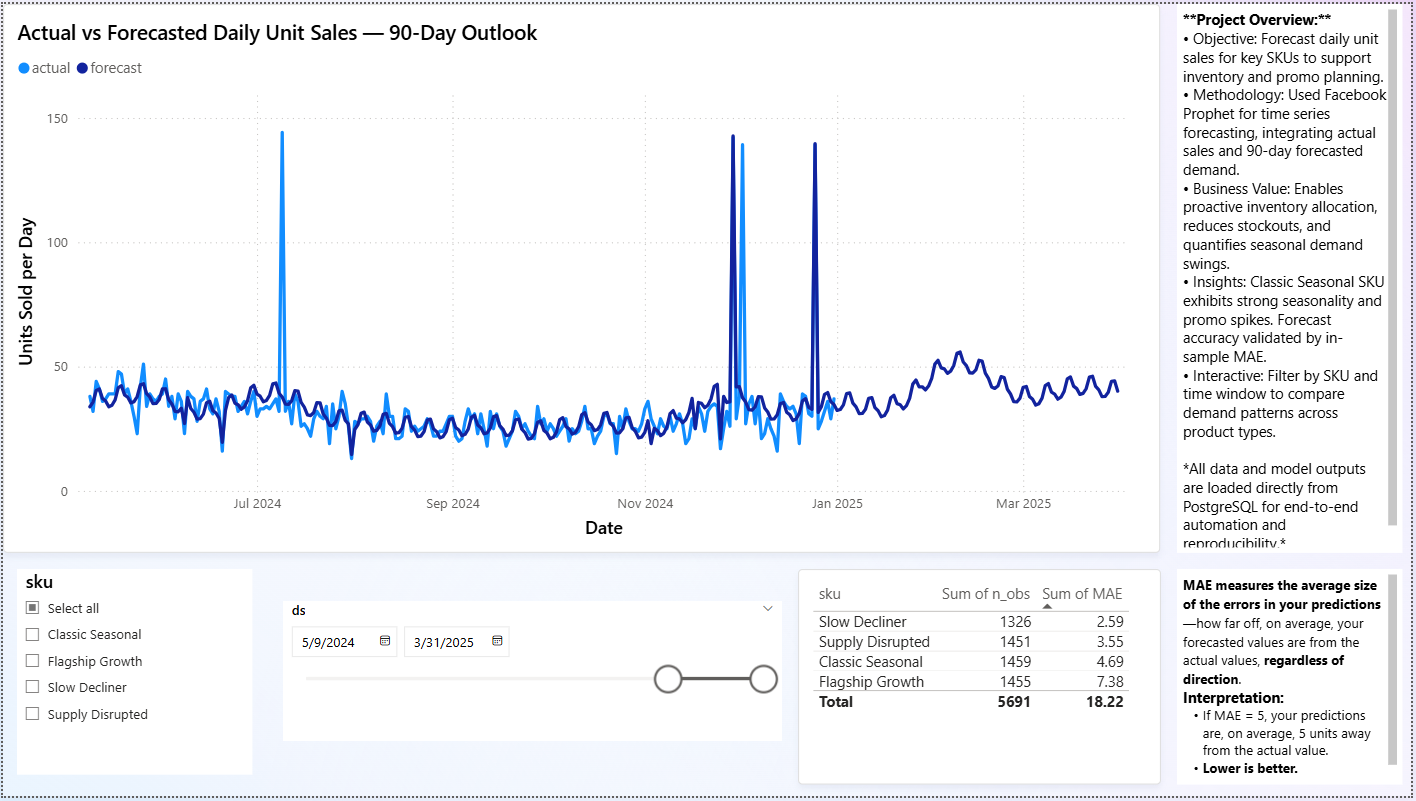

This screenshot's page, from the dashboard's own definition file:
{"tool":"powerbi","page":{"name":"Forecasting","canvas":[1280,720],"ordinal":1},"visuals":[{"type":"lineChart","title":"Actual vs Forecasted Daily Unit Sales — 90-Day Outlook","fields":{"Y":["Sum(public simple_prophet_forecast.yhat)"],"Series":["public simple_prophet_forecast.type"],"Category":["public simple_prophet_forecast.ds.Variation.Date Hierarchy.Year","public simple_prophet_forecast.ds.Variation.Date Hierarchy.Quarter","public simple_prophet_forecast.ds.Variation.Date Hierarchy.Month","public simple_prophet_forecast.ds.Variation.Date Hierarchy.Day"]},"box":[0,0,1052.4,499],"z":0},{"type":"slicer","fields":{"Values":["public simple_prophet_forecast.sku"]},"box":[12.6,513.6,214,186.7],"z":1000},{"type":"slicer","fields":{"Values":["public simple_prophet_forecast.ds"]},"box":[254.8,542.7,453.3,127.4],"z":2000},{"type":"textbox","box":[1067,0,205.2,499],"z":3000},{"type":"tableEx","fields":{"Values":["public forecast_error_metrics.sku","Sum(public forecast_error_metrics.n_obs)","Sum(public forecast_error_metrics.MAE)"]},"box":[722.7,513.6,329.7,195.5],"z":4000},{"type":"textbox","box":[1067,514,205,196],"z":5000}]}

Visuals, with their boxes in screenshot pixels (x1, y1, x2, y2), scaled from the page's 1280x720 canvas onto the 1416x801 screenshot:
"Actual vs Forecasted Daily Unit Sales — 90-Day Outlook" lineChart: l=0, t=0, r=1164, b=555
slicer - public simple_prophet_forecast.sku: l=14, t=571, r=251, b=779
slicer - public simple_prophet_forecast.ds: l=282, t=604, r=783, b=745
textbox: l=1180, t=0, r=1407, b=555
tableEx - public forecast_error_metrics.sku x Sum(public forecast_error_metrics.n_obs): l=799, t=571, r=1164, b=789
textbox: l=1180, t=572, r=1407, b=790
